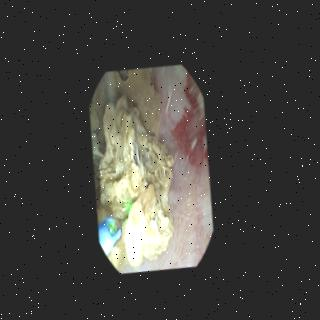fiber: (102, 216, 123, 253)
laser: (128, 197, 135, 213), (110, 219, 117, 230)
stone: (93, 71, 175, 267)
